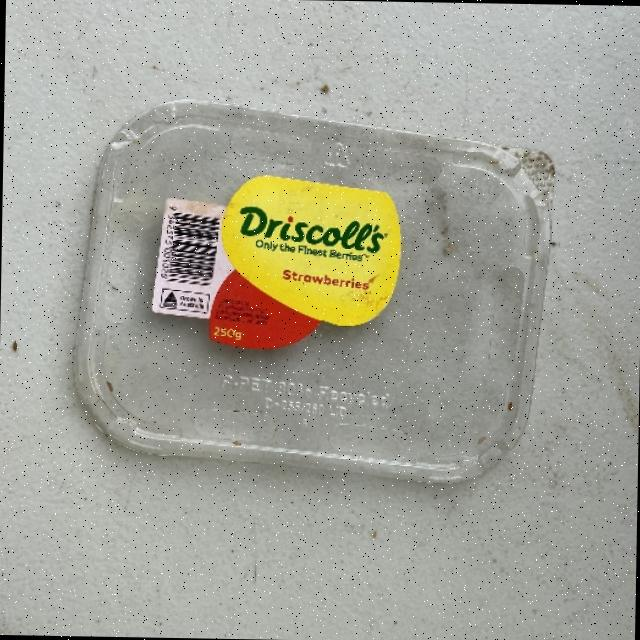plastic: (70, 96, 554, 485)
